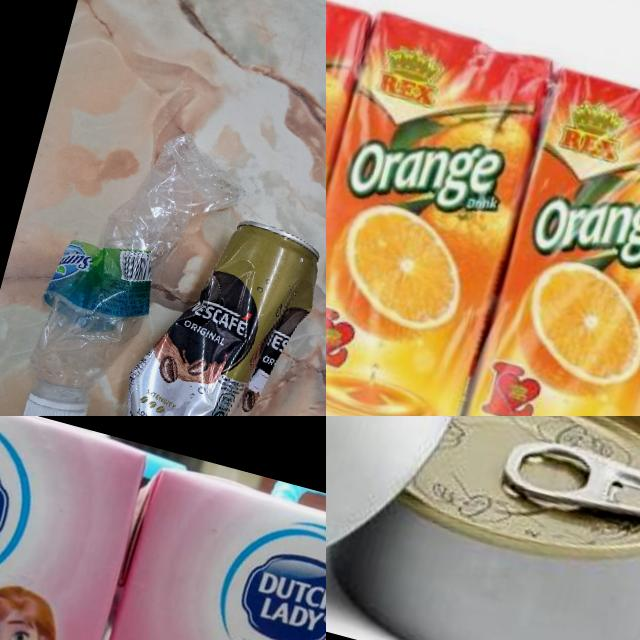aba de lata: (496, 426, 640, 540)
caixinha: (326, 5, 560, 416), (448, 60, 640, 416), (36, 464, 326, 640), (0, 416, 145, 640)
garrafa plástica: (20, 106, 246, 416)
lata: (326, 416, 640, 640), (109, 193, 326, 416), (326, 416, 497, 639)
tampa plástica: (21, 389, 93, 416)
